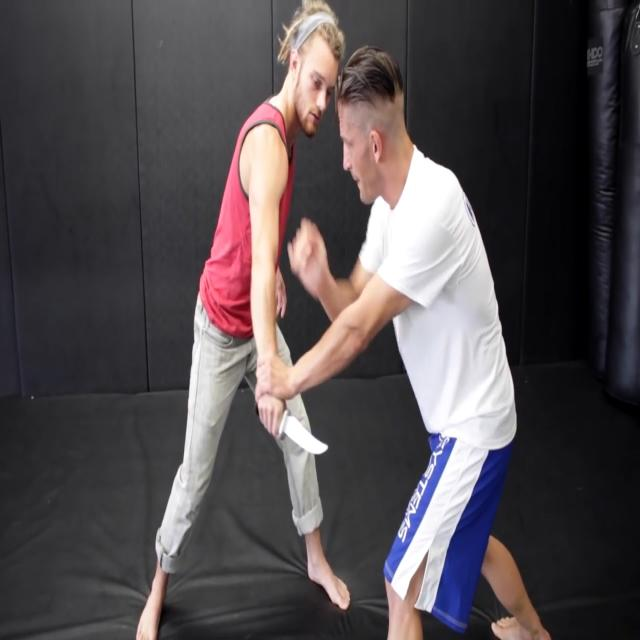knife: (284, 404, 332, 462)
